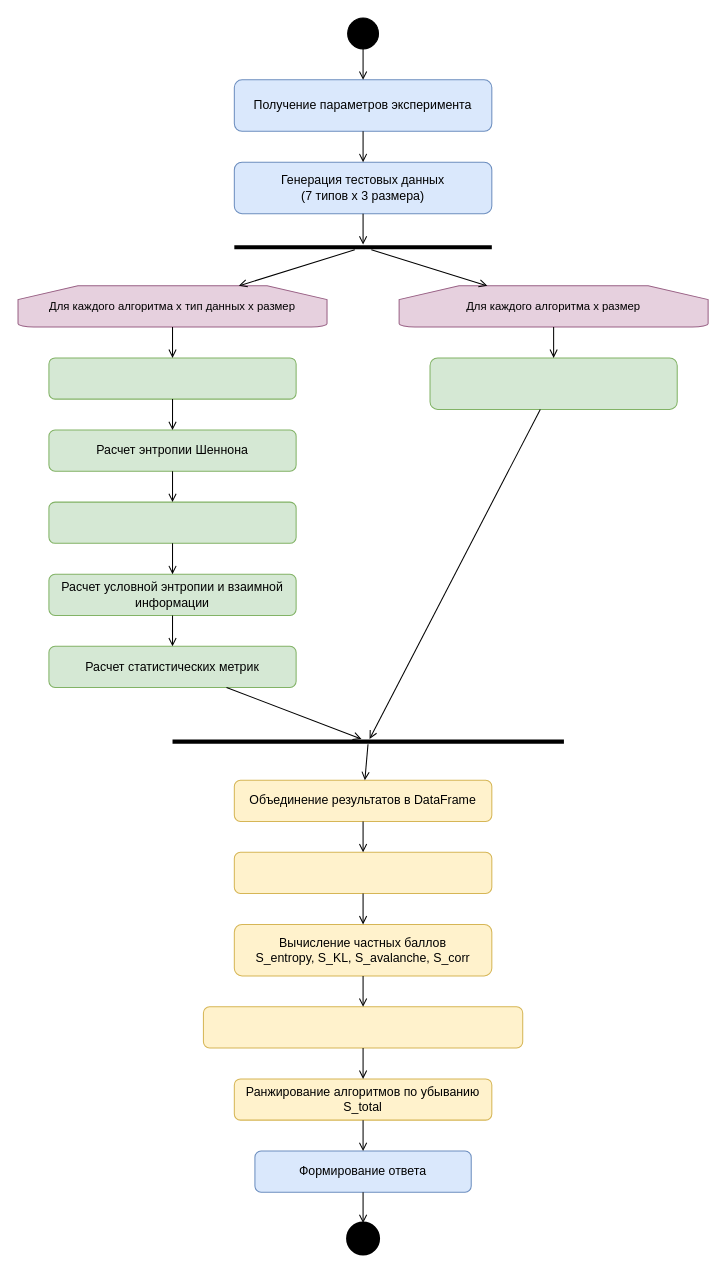
The diagram is 726 pixels wide and 1273 high, and some of its shapes have lost their labels. The shapes that lost their labels are listed below. From the top down, each one's centre as x and y in pixels, then its label:
At (x=172, y=378): "Шифрование данных".
At (x=553, y=383): "Тест лавинного эффекта (100 итераций)".
At (x=172, y=522): "Расчет KL-дивергенции".
At (x=362, y=872): "Расчет средних показателей по алгоритмам".
At (x=362, y=1027): "S_total = (S_entropy + S_KL + S_avalanche + S_corr) / 4".
